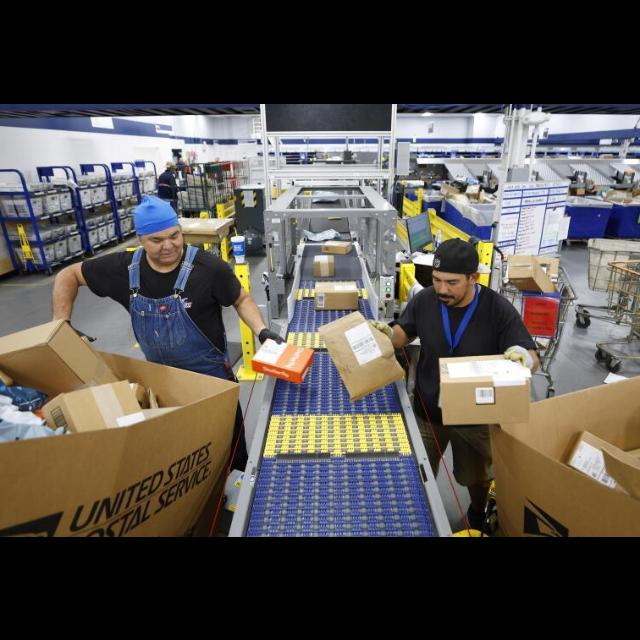box: (439, 354, 531, 424), (316, 282, 359, 309), (322, 239, 351, 253), (314, 255, 334, 275)
mailer: (318, 311, 403, 400), (252, 338, 313, 382), (303, 228, 339, 240)
